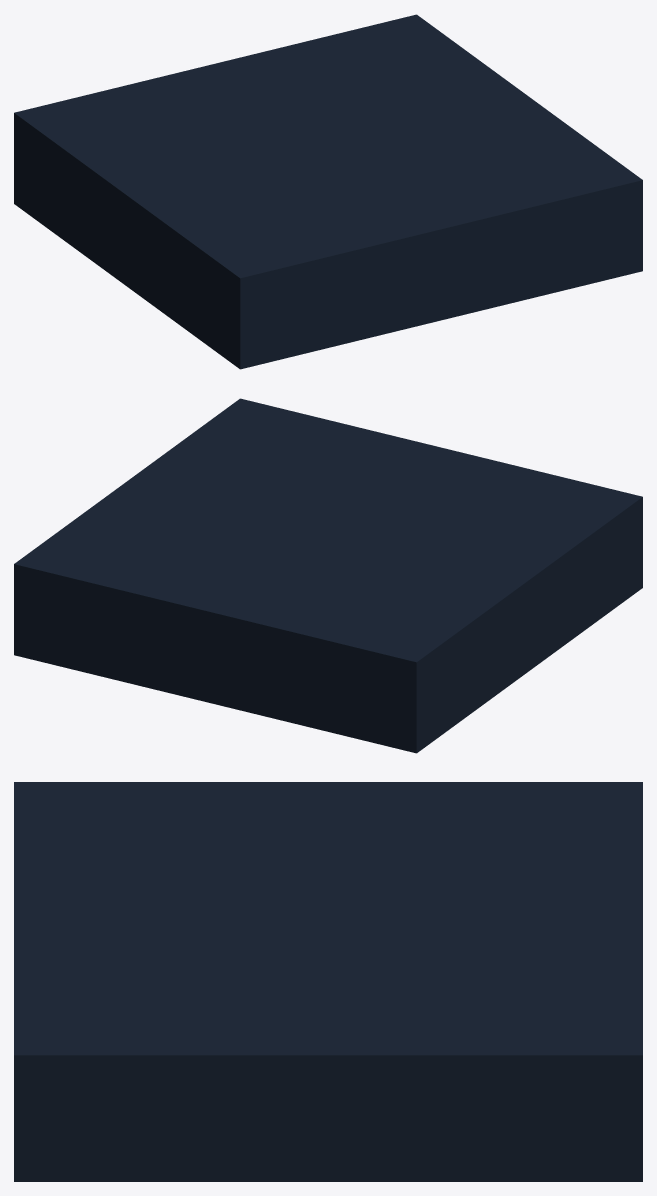
The model's file is link-portfolio.glb.
3 views of the same model, one above another, from view 1: azimuth 30°, elevation 25°; view 2: azimuth 150°, elevation 25°; view 3: azimuth 270°, elevation 25° (orthographic). The views are drawn at different scales.
Parts seen in each view (by area): view 1: cel_ink_link portfolio; view 2: cel_ink_link portfolio; view 3: cel_ink_link portfolio.
Boxes of the visible parts, x1=… form: cel_ink_link portfolio: x1=14, y1=14, x2=642, y2=369; cel_ink_link portfolio: x1=14, y1=398, x2=642, y2=753; cel_ink_link portfolio: x1=14, y1=782, x2=642, y2=1181.
Bounding box in the file's own units: 1.85 × 0.497 × 1.8.
